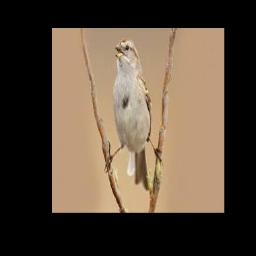Sparrow: (104, 39, 162, 190)
